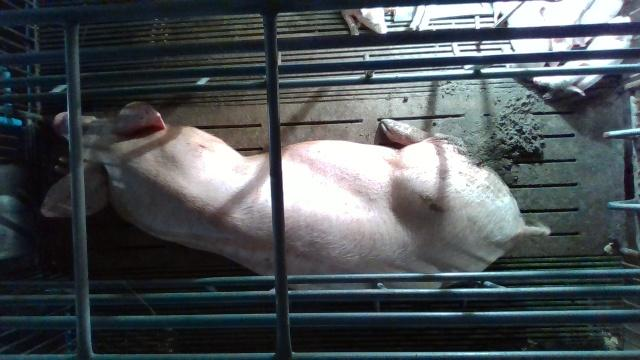piglet: (533, 15, 633, 96), (495, 1, 548, 66)
sow-sit: (42, 99, 550, 290)
